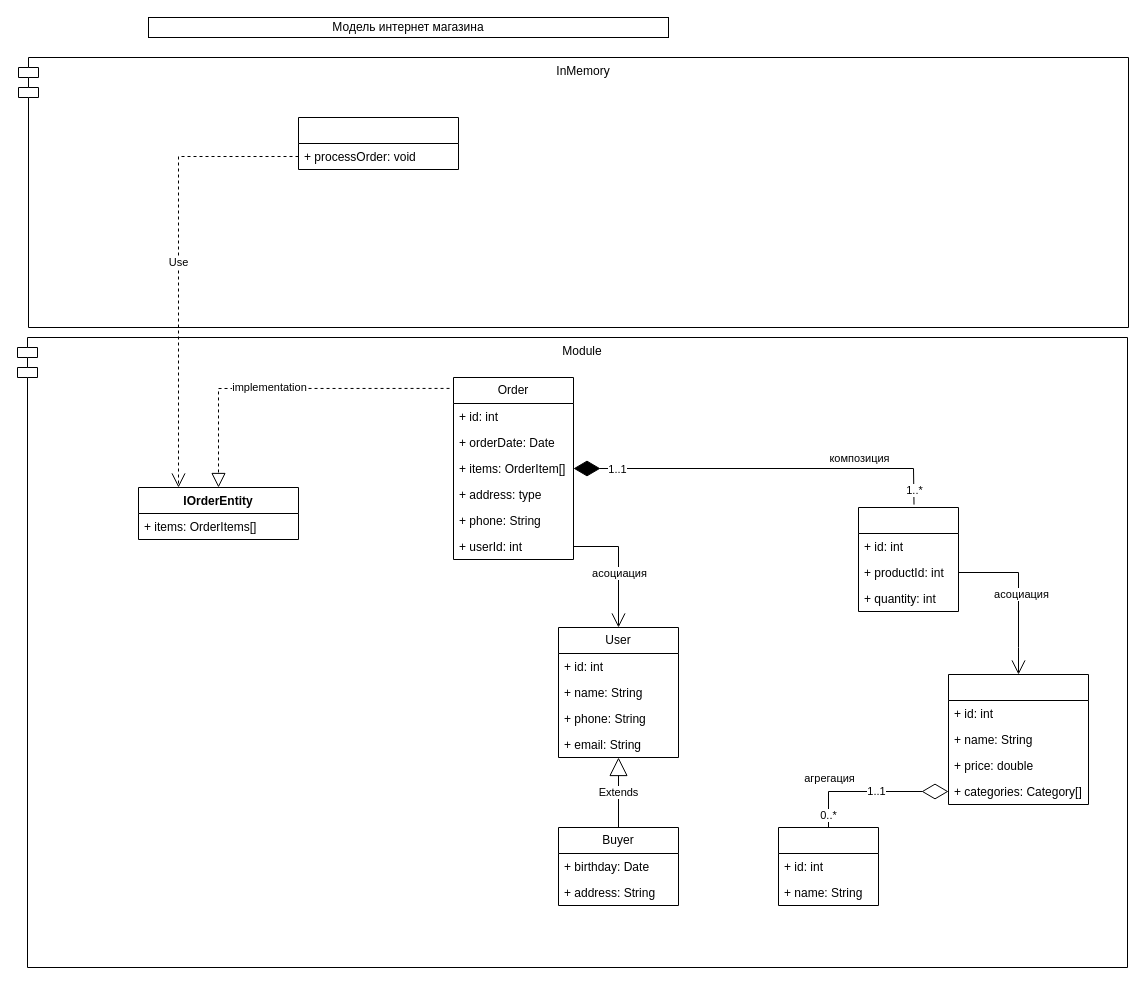
Some shapes in this 1146 by 985 pixel diagram are drawn without their labels. Here are the shapes that lost their labels. From the top down, the box of each, then its label:
(298, 116, 458, 170): StoreService
(858, 506, 958, 612): OrderItem
(948, 674, 1088, 804): Product
(778, 826, 878, 906): Category
